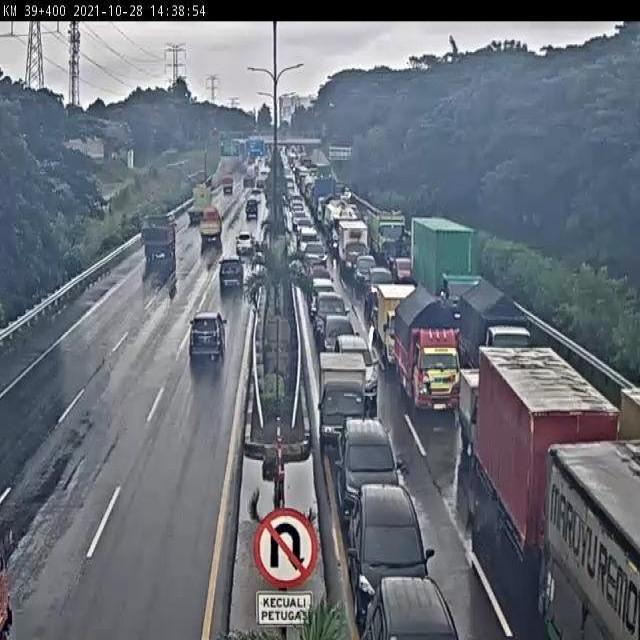car: (349, 486, 436, 618), (335, 419, 399, 531), (363, 577, 460, 640), (335, 336, 380, 403), (319, 315, 360, 369), (187, 311, 228, 363), (312, 291, 350, 343), (367, 265, 395, 308), (309, 276, 334, 316), (300, 252, 323, 295), (219, 256, 245, 288), (297, 226, 319, 262), (355, 255, 376, 288), (234, 231, 257, 256), (250, 188, 262, 205), (254, 176, 266, 191)
truck: (479, 345, 626, 595), (411, 215, 485, 336), (393, 287, 462, 416), (457, 275, 527, 379), (458, 365, 521, 468), (317, 348, 369, 449), (377, 283, 420, 369), (142, 211, 178, 260), (339, 220, 369, 276), (185, 181, 214, 227), (198, 207, 223, 244), (240, 168, 256, 193), (246, 199, 258, 223), (220, 176, 233, 195)
